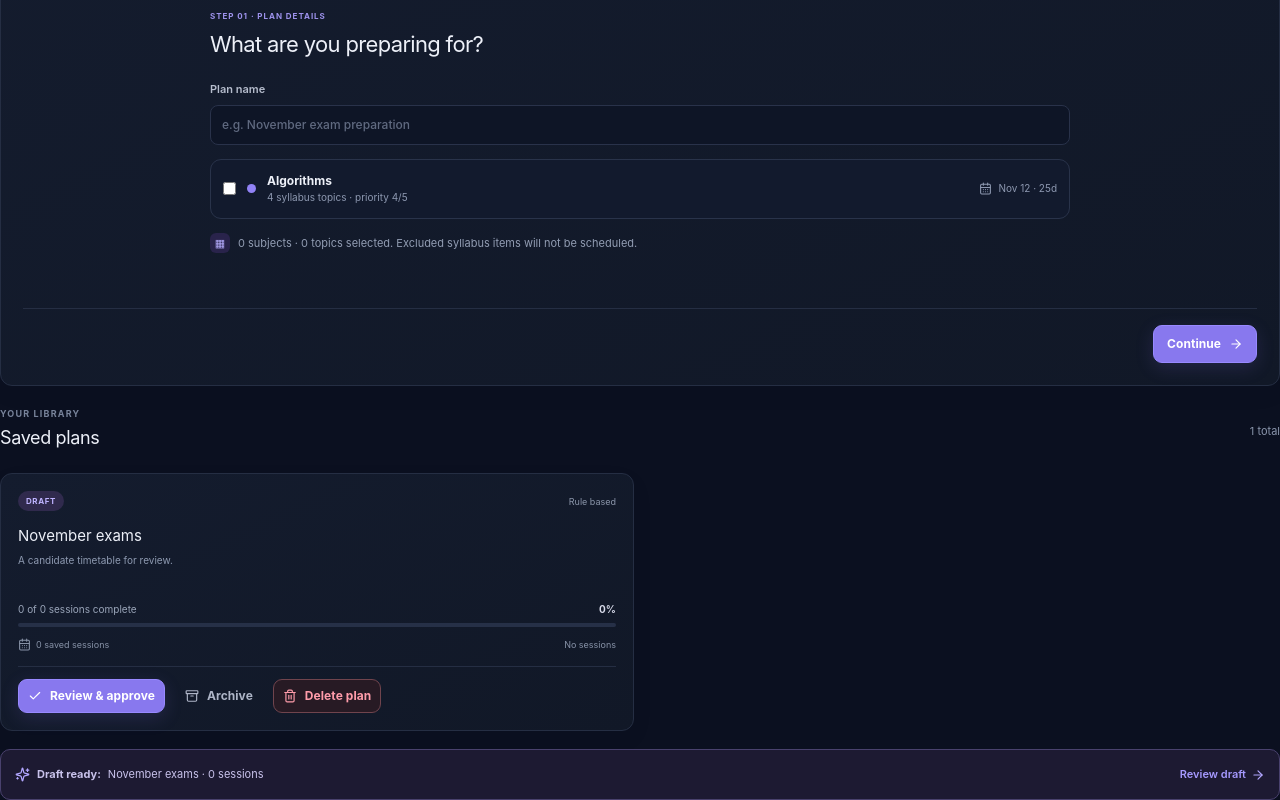
saved plan deletion › requires confirmation, explains dependent records, and refreshes after deletion
(page scrolled)
Click the button "Delete plan" at (327, 696), box x1=273 y1=679 x2=381 y2=713
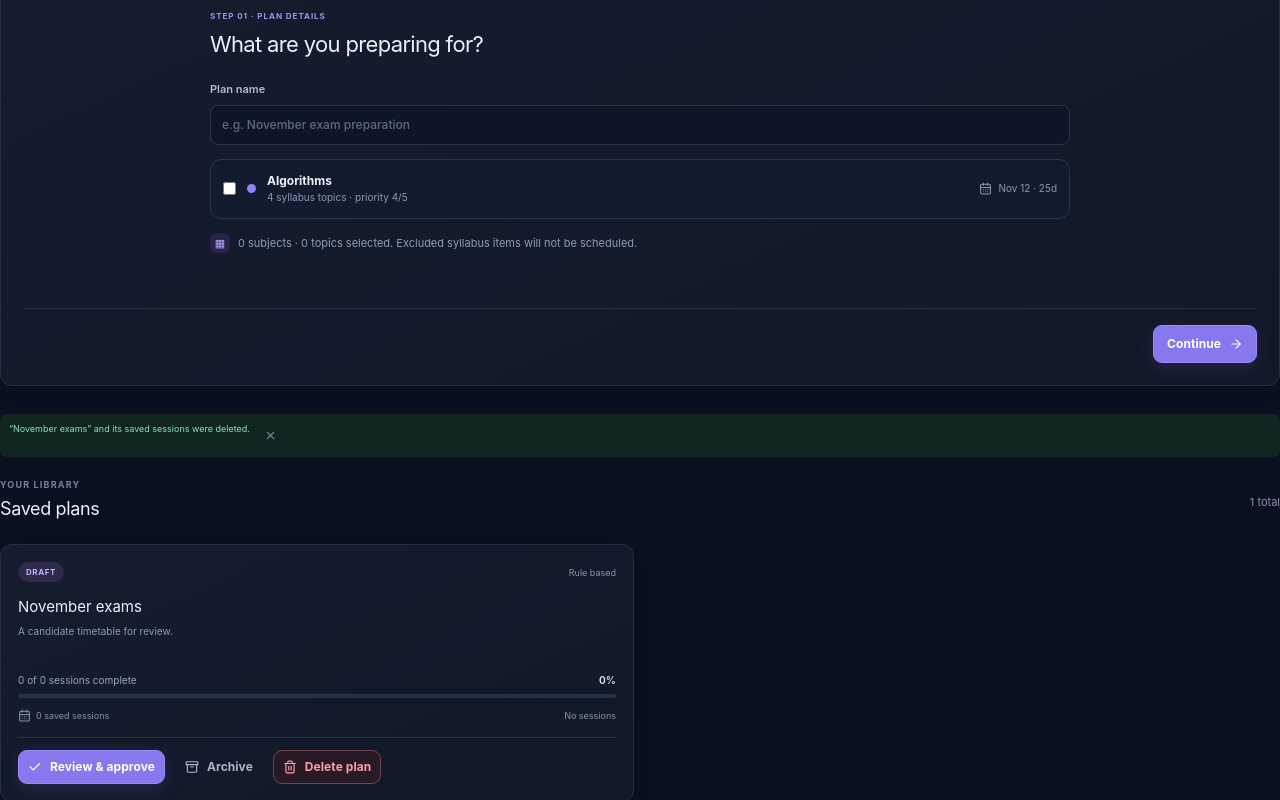
Expected: the message shows "were deleted", x1=9 y1=423 x2=250 y2=434
